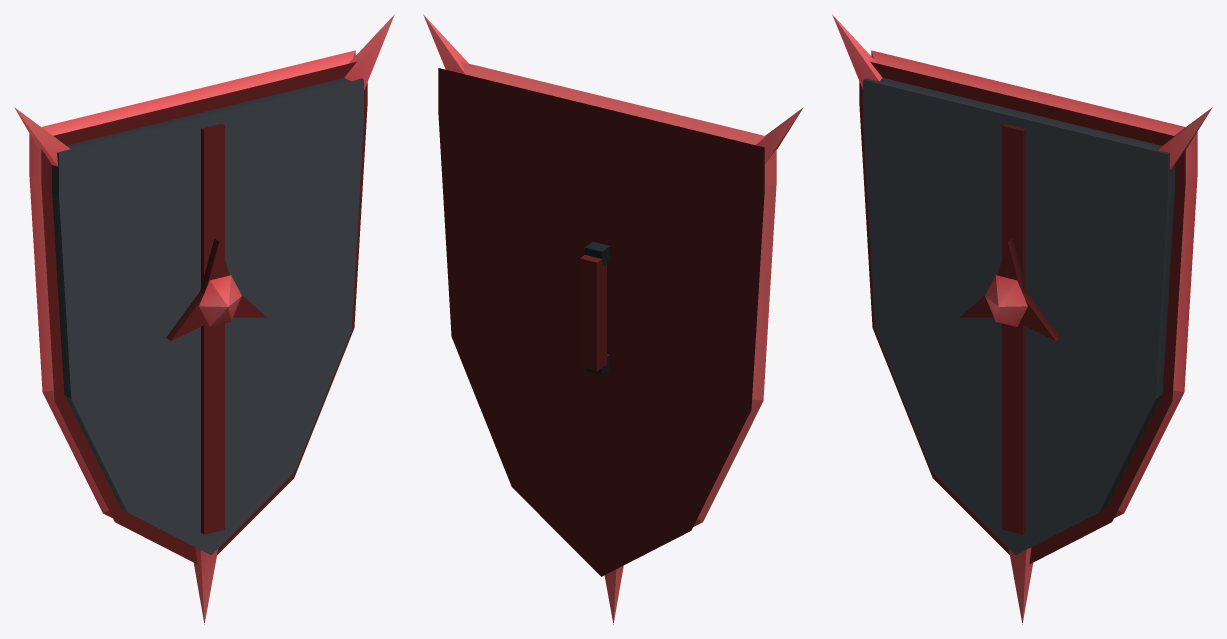
The model's file is knight_off_3.gltf.
The picture shows the model from 3 angles, left to right: view 1: azimuth 30°, elevation 25°; view 2: azimuth 150°, elevation 25°; view 3: azimuth 330°, elevation 25°; orthographic projection.
Visible parts, largest first — view 1: knight_off_3; view 2: knight_off_3; view 3: knight_off_3.
Part boxes in pixels (bbox=[...]): knight_off_3: bbox=[14, 14, 394, 624]; knight_off_3: bbox=[423, 14, 803, 624]; knight_off_3: bbox=[832, 14, 1212, 624].
Size of the model in its own units: 1.1 by 1.56 by 0.245.
Materials: 1 (1 with a texture image).
